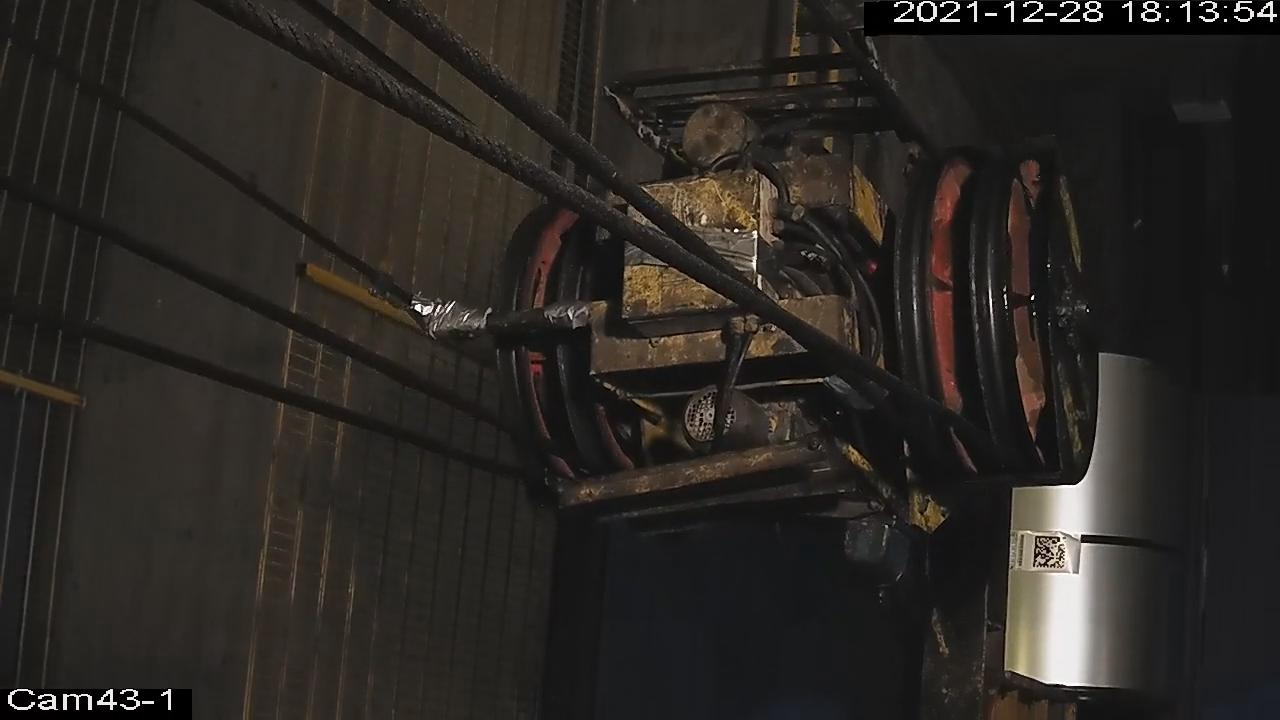data matrix: (1032, 535, 1070, 572)
